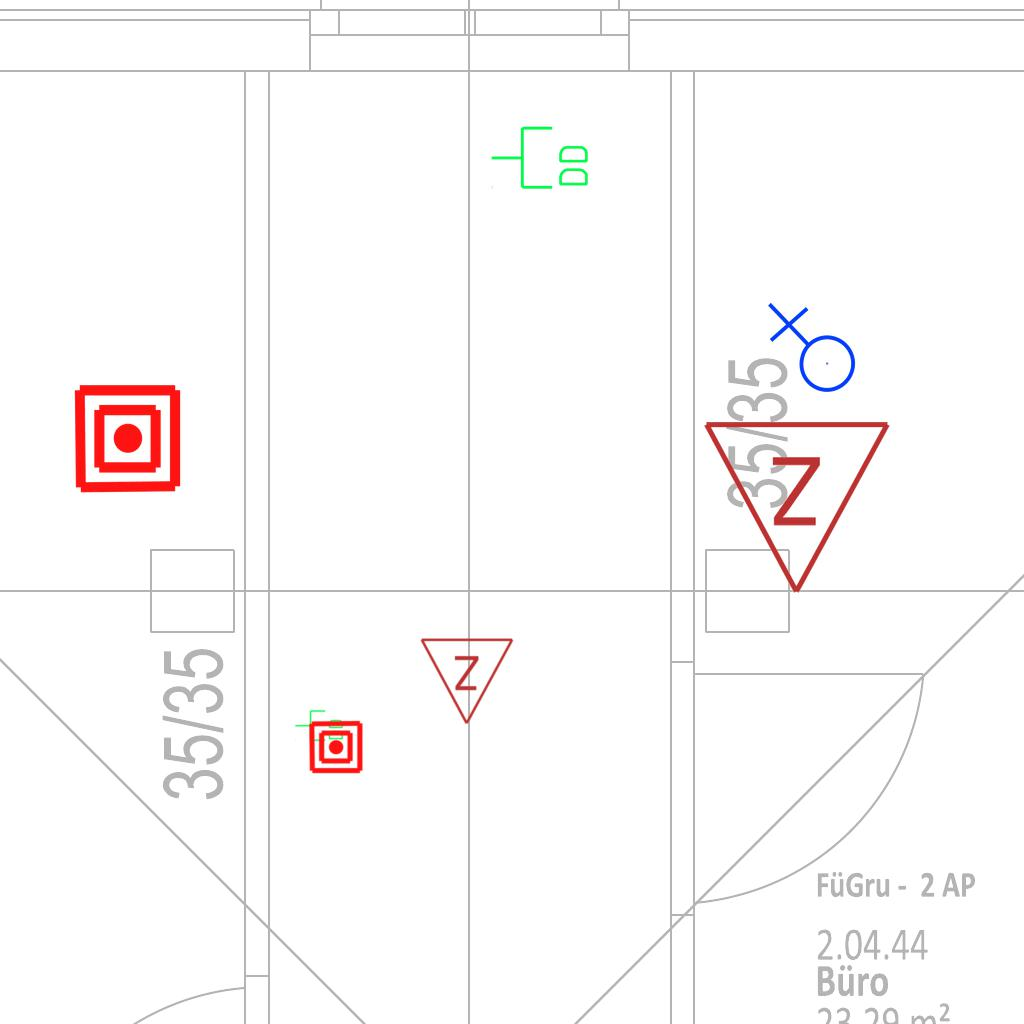Datenanschluss_zweifach: (489, 124, 592, 193), (294, 709, 345, 743)
Elektroanschluss_allgemein_230V_Geraeteanschlussdose_230V: (763, 302, 857, 401)
NAM-Nichtautomatischer_Melder: (71, 382, 184, 495), (308, 719, 364, 775)
Zimmersignalleuchte: (701, 407, 897, 607), (419, 631, 517, 731)
